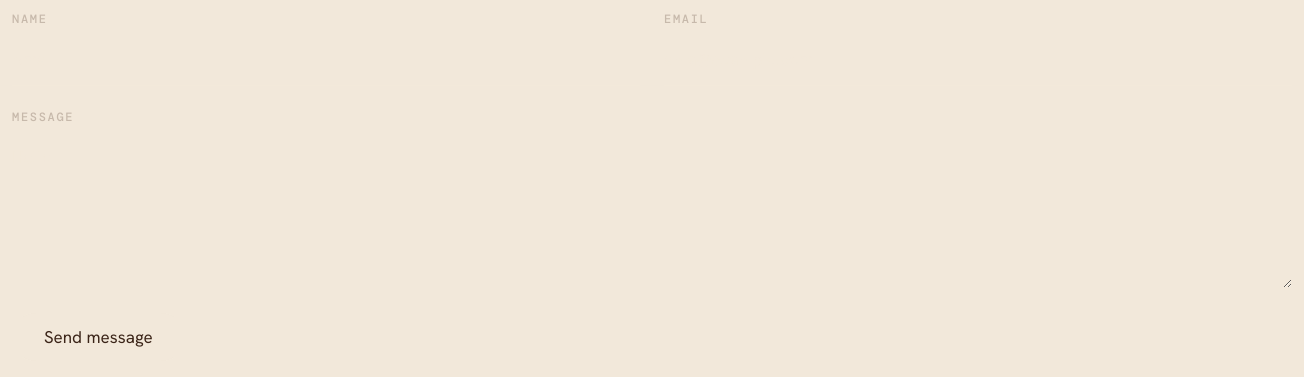
Test case: honeypot filled → pretends success, no fetch
Earlier steps of the test are not shown.
Step 1. Click the button "Send message" → coordinates (98, 337), box [12,313,185,361]
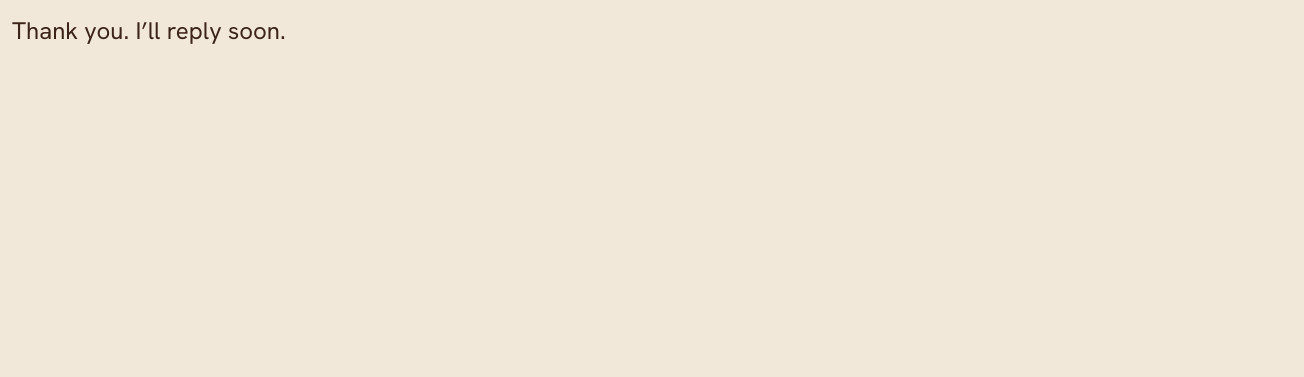
Check: the text "Thank you. I’ll reply soon." is shown, box [12,15,286,46]
